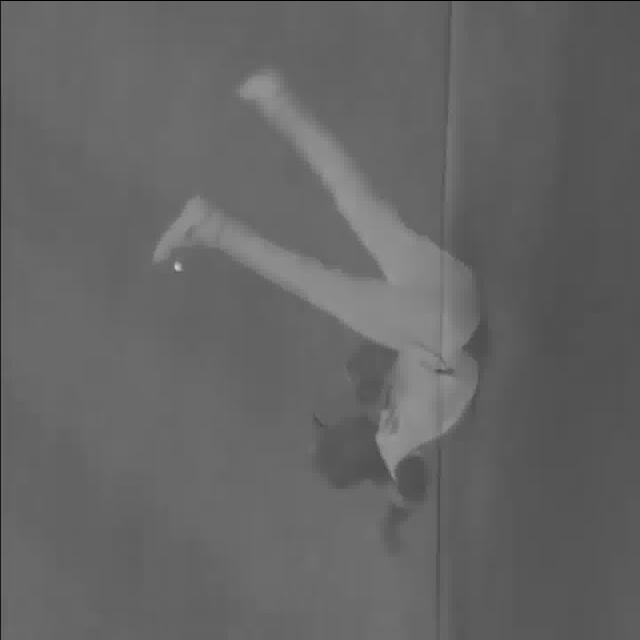baseball: (174, 260, 183, 270)
